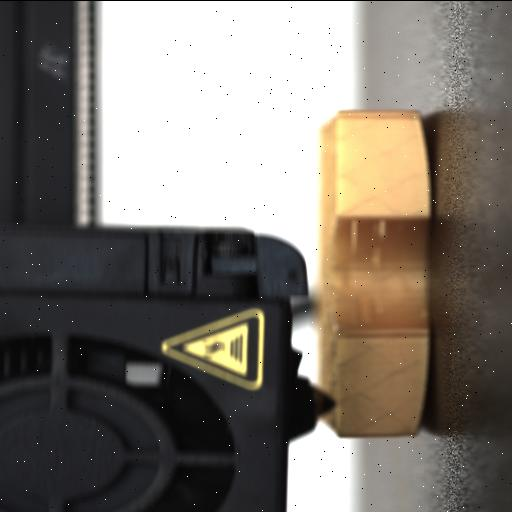warp: (401, 378, 437, 440), (404, 106, 438, 164)
